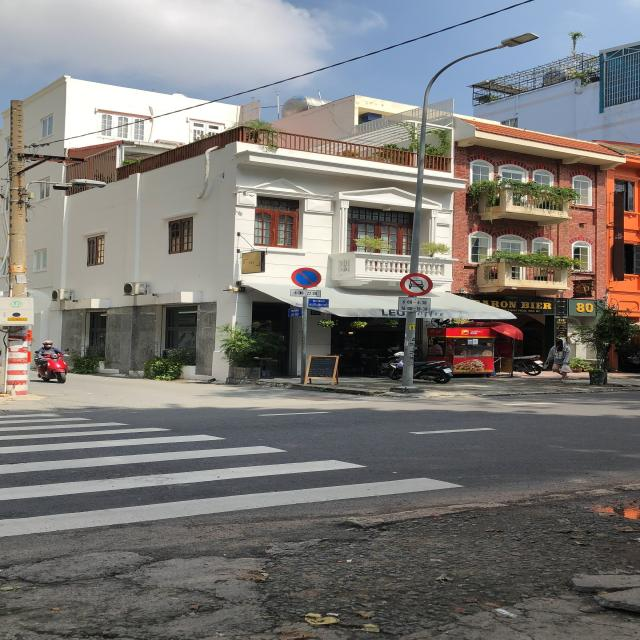Bien bao cam do xe: (289, 267, 323, 289)
Bien bao cam xe oto: (398, 272, 436, 298)
